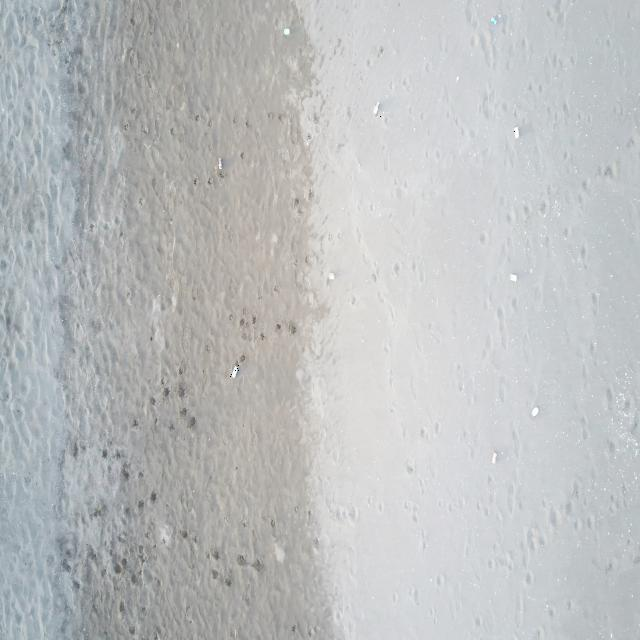tin-and-aluminum-cans: (230, 364, 240, 379), (374, 100, 382, 117), (491, 450, 498, 466), (531, 406, 539, 418), (514, 125, 520, 141), (490, 14, 498, 26), (283, 27, 291, 38), (217, 157, 223, 171), (508, 274, 518, 282), (329, 271, 335, 282)
